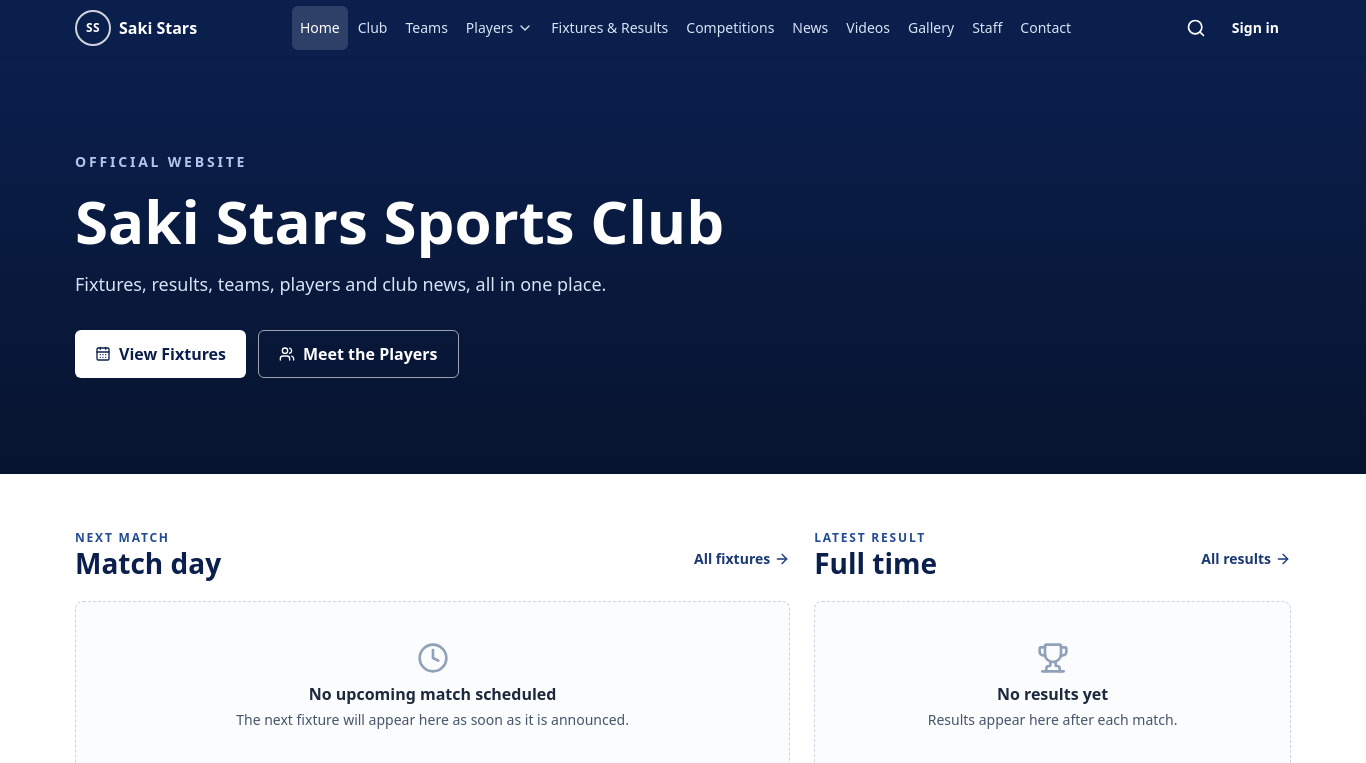
Test: Players menu with two squads › choosing a squad shows only that squad (squad filter sent to the API) and closes the menu
Click the button "Players" at (500, 28), box [458,6,541,50]
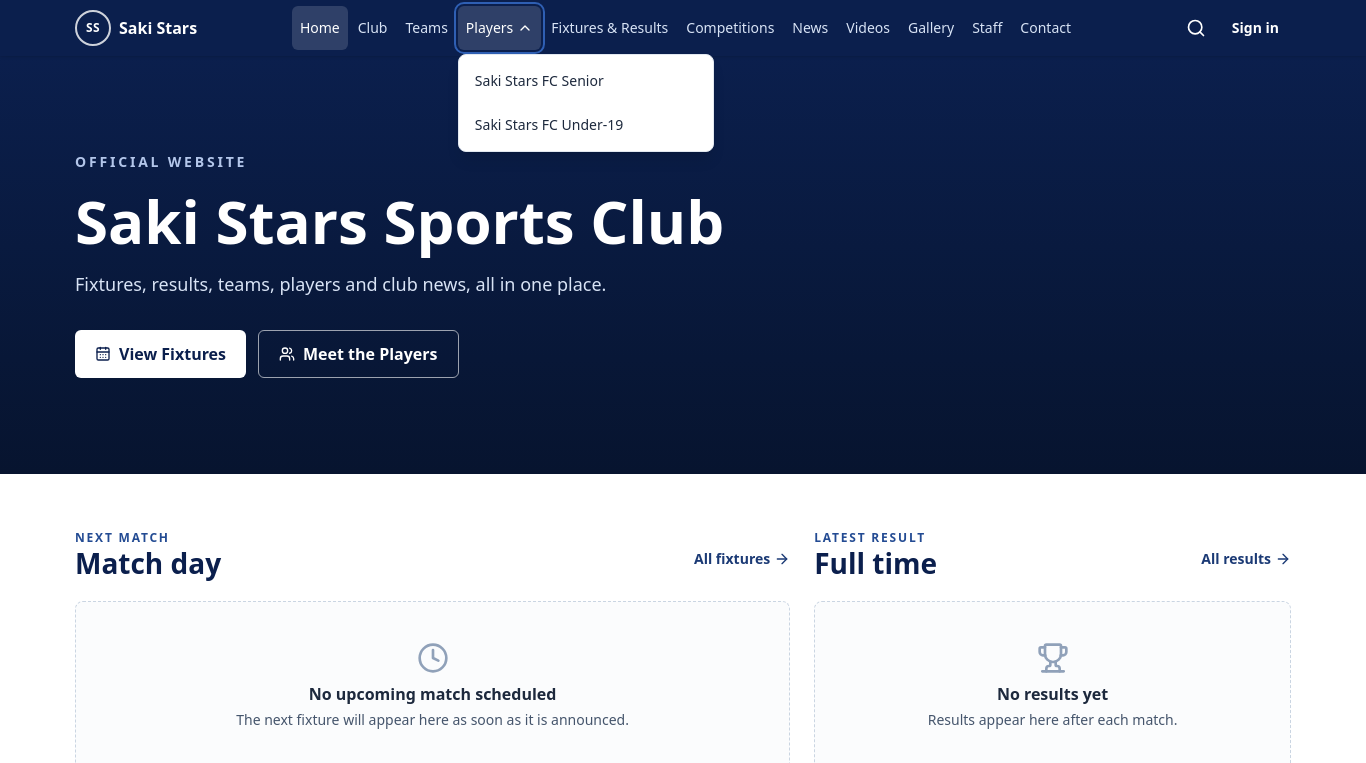
Click the link "Saki Stars FC Under-19" at (549, 124), box [475,115,623,134]
(page scrolled)
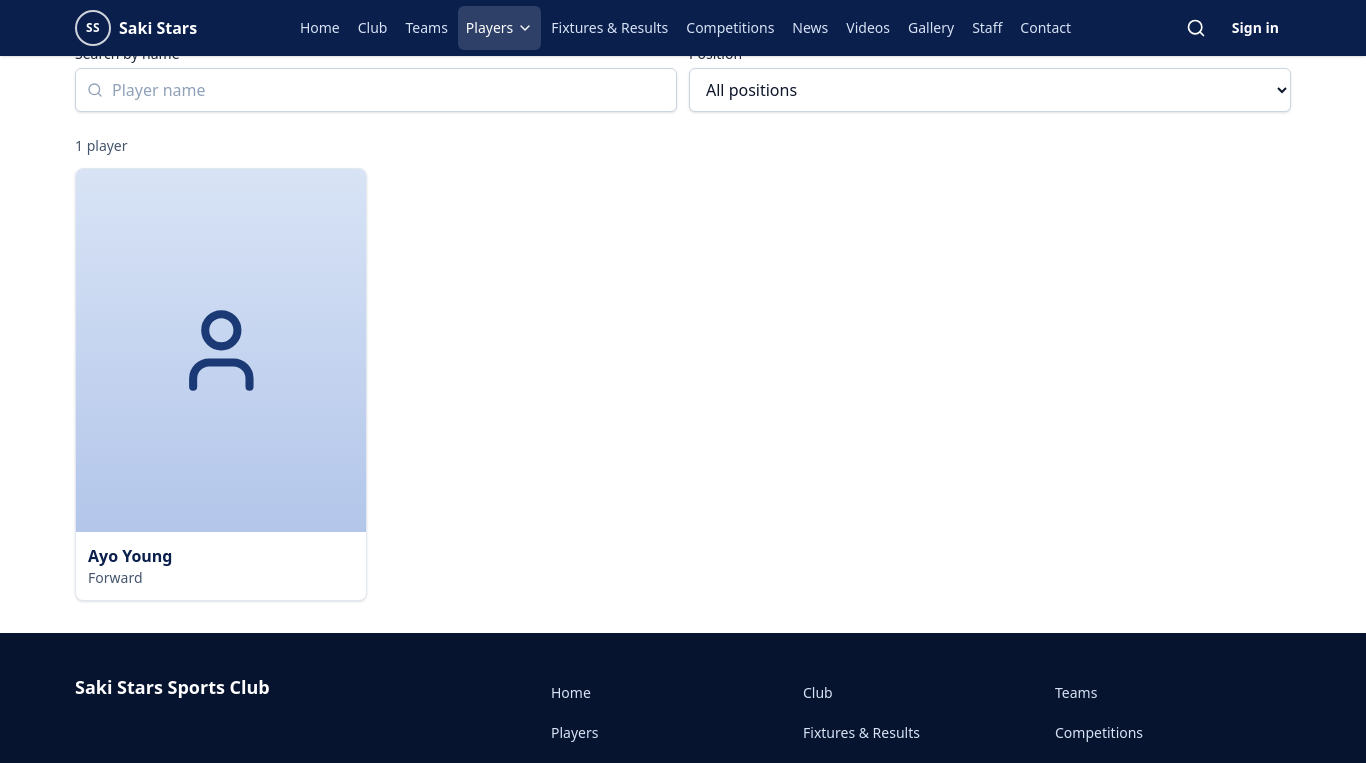
Now the text "Ayo Young" is shown, box [88,544,172,566]
Now the button "Players" is collapsed, box [458,6,541,50]
